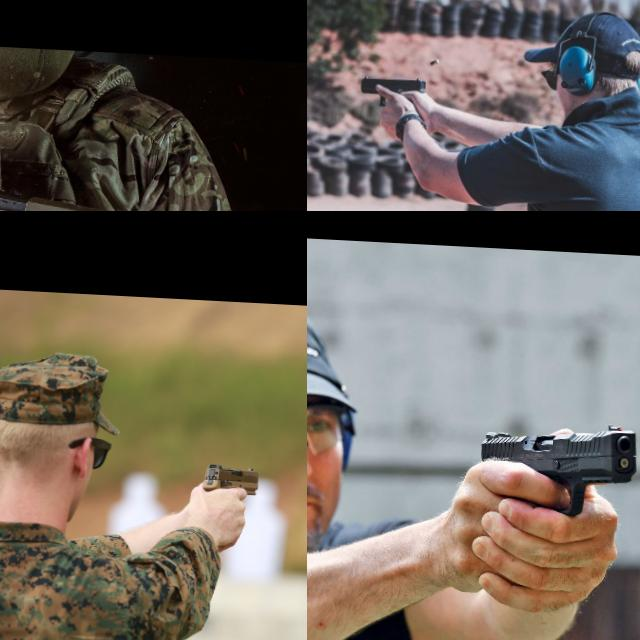handgun: (474, 417, 640, 522), (0, 169, 144, 211), (358, 70, 430, 118), (196, 460, 264, 498)
